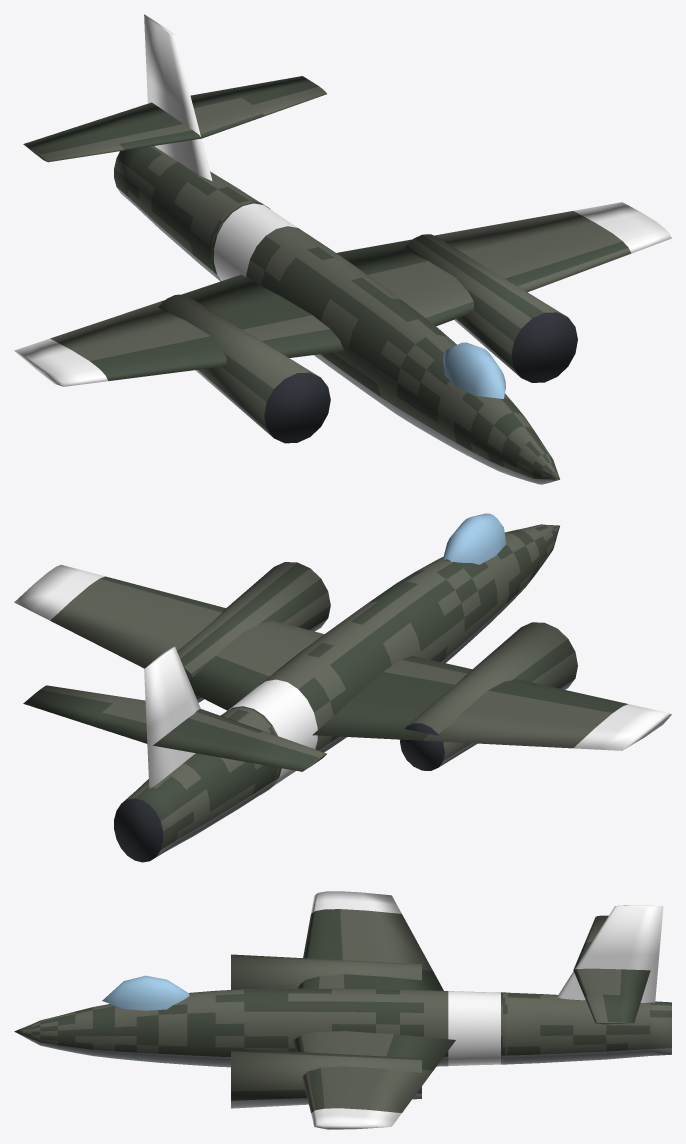
File: meteor_f8.glb
3 renders of one model, top to bottom at view 1: azimuth 30°, elevation 25°; view 2: azimuth 150°, elevation 25°; view 3: azimuth 270°, elevation 25°, orthographic. The views are drawn at different scales.
Visible parts, largest first — view 1: body; view 2: body; view 3: body.
Part boxes in pixels (x1=…): body: x1=14, y1=14, x2=671, y2=484; body: x1=14, y1=513, x2=671, y2=862; body: x1=14, y1=891, x2=671, y2=1129.
Size of the model in its own units: 11.32 by 3.64 by 13.59.
